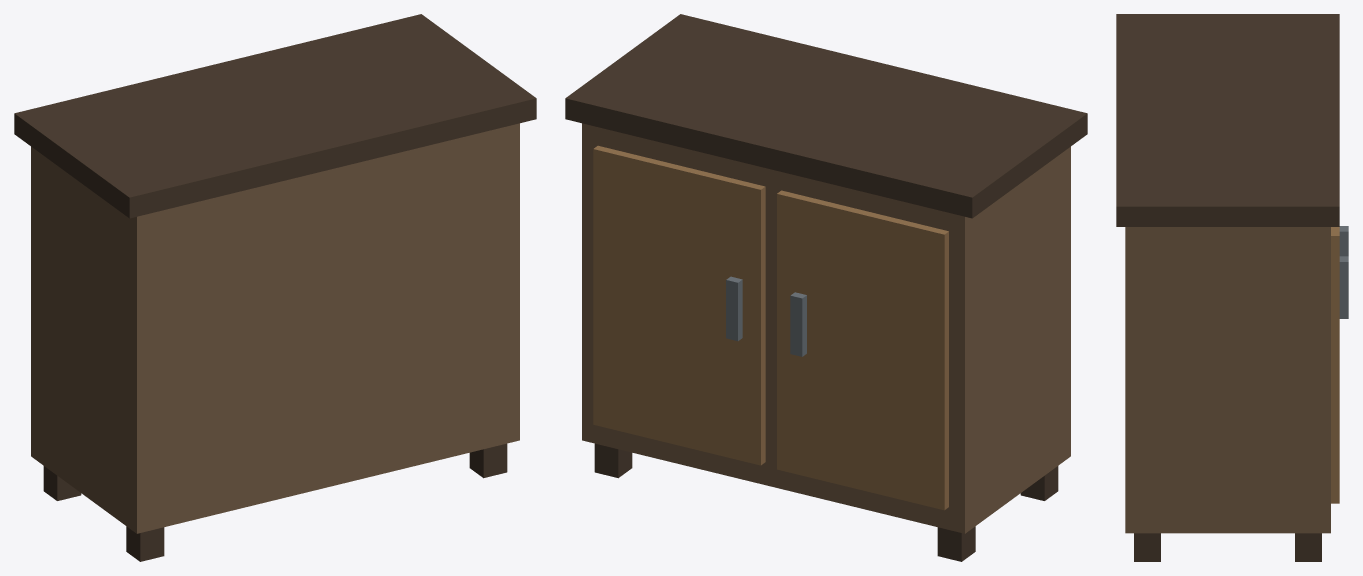
The model's file is int_cabinet.glb.
The picture shows the model from 3 angles, left to right: view 1: azimuth 30°, elevation 25°; view 2: azimuth 150°, elevation 25°; view 3: azimuth 270°, elevation 25°; orthographic projection. The views are drawn at different scales.
Visible parts, largest first — view 1: int_cabinet; view 2: int_cabinet; view 3: int_cabinet.
Boxes of the visible parts, x1,y1,x2,y2 form: int_cabinet: (14,14,536,561); int_cabinet: (565,14,1087,561); int_cabinet: (1116,14,1348,561).
Bounding box in the file's own units: 1.02 × 0.9 × 0.52.
1 material, 1 textured.
